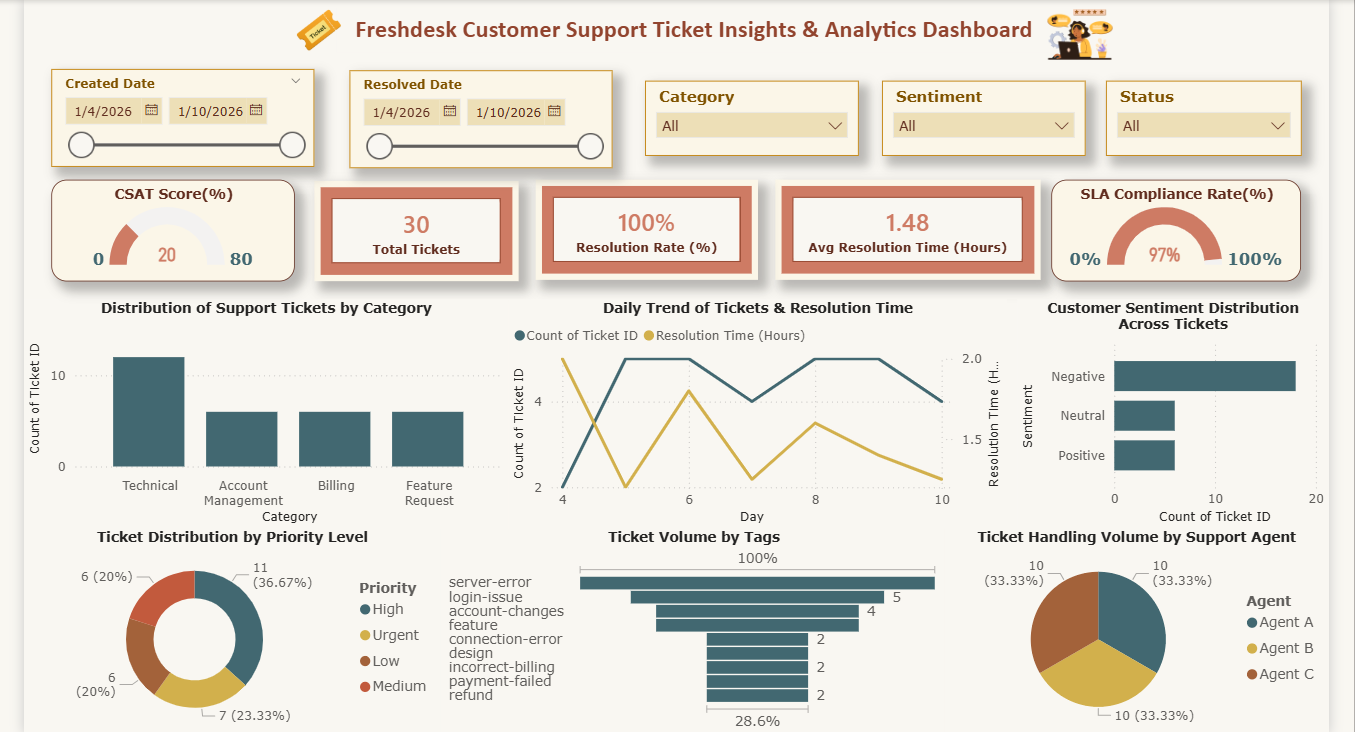

This screenshot's page, from the dashboard's own definition file:
{"tool":"powerbi","page":{"name":"Page 1","canvas":[1280,720],"ordinal":0},"visuals":[{"type":"cardVisual","fields":{"Data":["Cleaned_Freshdesk_Customer_Support_Tickets_Dataset_Filled.Total Tickets"]},"box":[284.9,177.6,200.6,98.4],"z":0},{"type":"cardVisual","fields":{"Data":["Cleaned_Freshdesk_Customer_Support_Tickets_Dataset_Filled.Avg Resolution Time (Hours)"]},"box":[737.2,176.3,260.6,98.4],"z":1000},{"type":"cardVisual","fields":{"Data":["Cleaned_Freshdesk_Customer_Support_Tickets_Dataset_Filled.Resolution Rate (%)"]},"box":[502.1,176.3,218.5,98.4],"z":2000},{"type":"gauge","title":"SLA Compliance Rate(%)","fields":{"Y":["Cleaned_Freshdesk_Customer_Support_Tickets_Dataset_Filled.SLA Compliance (%)"]},"box":[1008.1,176.3,245.3,99.7],"z":3000},{"type":"clusteredColumnChart","title":"Distribution of Support Tickets by Category","fields":{"Category":["Cleaned_Freshdesk_Customer_Support_Tickets_Dataset_Filled.Category"],"Y":["CountNonNull(Cleaned_Freshdesk_Customer_Support_Tickets_Dataset_Filled.Ticket ID)"]},"box":[0,293.9,475.3,224.9],"z":4000},{"type":"donutChart","title":"Ticket Distribution by Priority Level","fields":{"Category":["Cleaned_Freshdesk_Customer_Support_Tickets_Dataset_Filled.Priority"],"Y":["CountNonNull(Cleaned_Freshdesk_Customer_Support_Tickets_Dataset_Filled.Ticket ID)"]},"box":[0,518.7,408.9,201.9],"z":5000},{"type":"lineChart","title":"Daily Trend of Tickets & Resolution Time","fields":{"Y":["CountNonNull(Cleaned_Freshdesk_Customer_Support_Tickets_Dataset_Filled.Ticket ID)"],"Category":["Cleaned_Freshdesk_Customer_Support_Tickets_Dataset_Filled.Created Date.Variation.Date Hierarchy.Day"],"Y2":["Cleaned_Freshdesk_Customer_Support_Tickets_Dataset_Filled.Resolution Time (Hours)"]},"box":[475.3,293.9,489.3,224.9],"z":6000},{"type":"pieChart","title":"Ticket Handling Volume by Support Agent","fields":{"Category":["Cleaned_Freshdesk_Customer_Support_Tickets_Dataset_Filled.Agent"],"Y":["CountNonNull(Cleaned_Freshdesk_Customer_Support_Tickets_Dataset_Filled.Ticket ID)"]},"box":[903.3,518.7,376.9,201.9],"z":7000},{"type":"clusteredBarChart","title":"Customer Sentiment Distribution Across Tickets","fields":{"Category":["Cleaned_Freshdesk_Customer_Support_Tickets_Dataset_Filled.Sentiment"],"Y":["CountNonNull(Cleaned_Freshdesk_Customer_Support_Tickets_Dataset_Filled.Ticket ID)"]},"box":[974.9,293.9,305.4,224.9],"z":8000},{"type":"funnel","title":"Ticket Volume by Tags","fields":{"Category":["Cleaned_Freshdesk_Customer_Support_Tickets_Dataset_Filled.Tags"],"Y":["CountNonNull(Cleaned_Freshdesk_Customer_Support_Tickets_Dataset_Filled.Ticket ID)"]},"box":[411.4,518.7,491.9,201.9],"z":9000},{"type":"slicer","fields":{"Values":["Cleaned_Freshdesk_Customer_Support_Tickets_Dataset_Filled.Created Date"]},"box":[26.8,67.7,258.1,95.8],"z":10000},{"type":"slicer","fields":{"Values":["Cleaned_Freshdesk_Customer_Support_Tickets_Dataset_Filled.Resolved Date"]},"box":[319.4,69,258.1,95.8],"z":11000},{"type":"slicer","fields":{"Values":["Cleaned_Freshdesk_Customer_Support_Tickets_Dataset_Filled.Status"]},"box":[1061.7,79.2,191.6,74.1],"z":12000},{"type":"slicer","fields":{"Values":["Cleaned_Freshdesk_Customer_Support_Tickets_Dataset_Filled.Sentiment"]},"box":[842,79.2,199.3,74.1],"z":13000},{"type":"slicer","fields":{"Values":["Cleaned_Freshdesk_Customer_Support_Tickets_Dataset_Filled.Category"]},"box":[609.4,79.2,209.5,74.1],"z":14000},{"type":"textbox","box":[306.6,7.7,701.4,43.4],"z":15000},{"type":"image","box":[259.4,7.7,60,43.4],"z":16000},{"type":"image","box":[997.9,0,76.7,67.7],"z":17000},{"type":"gauge","title":"CSAT Score(%)","fields":{"Y":["Cleaned_Freshdesk_Customer_Support_Tickets_Dataset_Filled.CSAT Score(%)"],"MaxValue":["Cleaned_Freshdesk_Customer_Support_Tickets_Dataset_Filled.CSAT Target"]},"box":[26.8,176.3,238.9,99.7],"z":18000}]}

Visuals, with their boxes on the page's 1280x720 design canvas (x1, y1, x2, y2). These are canvas units, not pixel positions in the 1355x732 screenshot, which may show the page scaled, cropped or inside an application window:
cardVisual - Cleaned_Freshdesk_Customer_Support_Tickets_Dataset_Filled.Total Tickets: <box>285,178,486,276</box>
cardVisual - Cleaned_Freshdesk_Customer_Support_Tickets_Dataset_Filled.Avg Resolution Time (Hours): <box>737,176,998,275</box>
cardVisual - Cleaned_Freshdesk_Customer_Support_Tickets_Dataset_Filled.Resolution Rate (%): <box>502,176,721,275</box>
"SLA Compliance Rate(%)" gauge: <box>1008,176,1253,276</box>
"Distribution of Support Tickets by Category" clusteredColumnChart: <box>0,294,475,519</box>
"Ticket Distribution by Priority Level" donutChart: <box>0,519,409,721</box>
"Daily Trend of Tickets & Resolution Time" lineChart: <box>475,294,965,519</box>
"Ticket Handling Volume by Support Agent" pieChart: <box>903,519,1280,721</box>
"Customer Sentiment Distribution Across Tickets" clusteredBarChart: <box>975,294,1280,519</box>
"Ticket Volume by Tags" funnel: <box>411,519,903,721</box>
slicer - Cleaned_Freshdesk_Customer_Support_Tickets_Dataset_Filled.Created Date: <box>27,68,285,164</box>
slicer - Cleaned_Freshdesk_Customer_Support_Tickets_Dataset_Filled.Resolved Date: <box>319,69,578,165</box>
slicer - Cleaned_Freshdesk_Customer_Support_Tickets_Dataset_Filled.Status: <box>1062,79,1253,153</box>
slicer - Cleaned_Freshdesk_Customer_Support_Tickets_Dataset_Filled.Sentiment: <box>842,79,1041,153</box>
slicer - Cleaned_Freshdesk_Customer_Support_Tickets_Dataset_Filled.Category: <box>609,79,819,153</box>
textbox: <box>307,8,1008,51</box>
image: <box>259,8,319,51</box>
image: <box>998,0,1075,68</box>
"CSAT Score(%)" gauge: <box>27,176,266,276</box>
